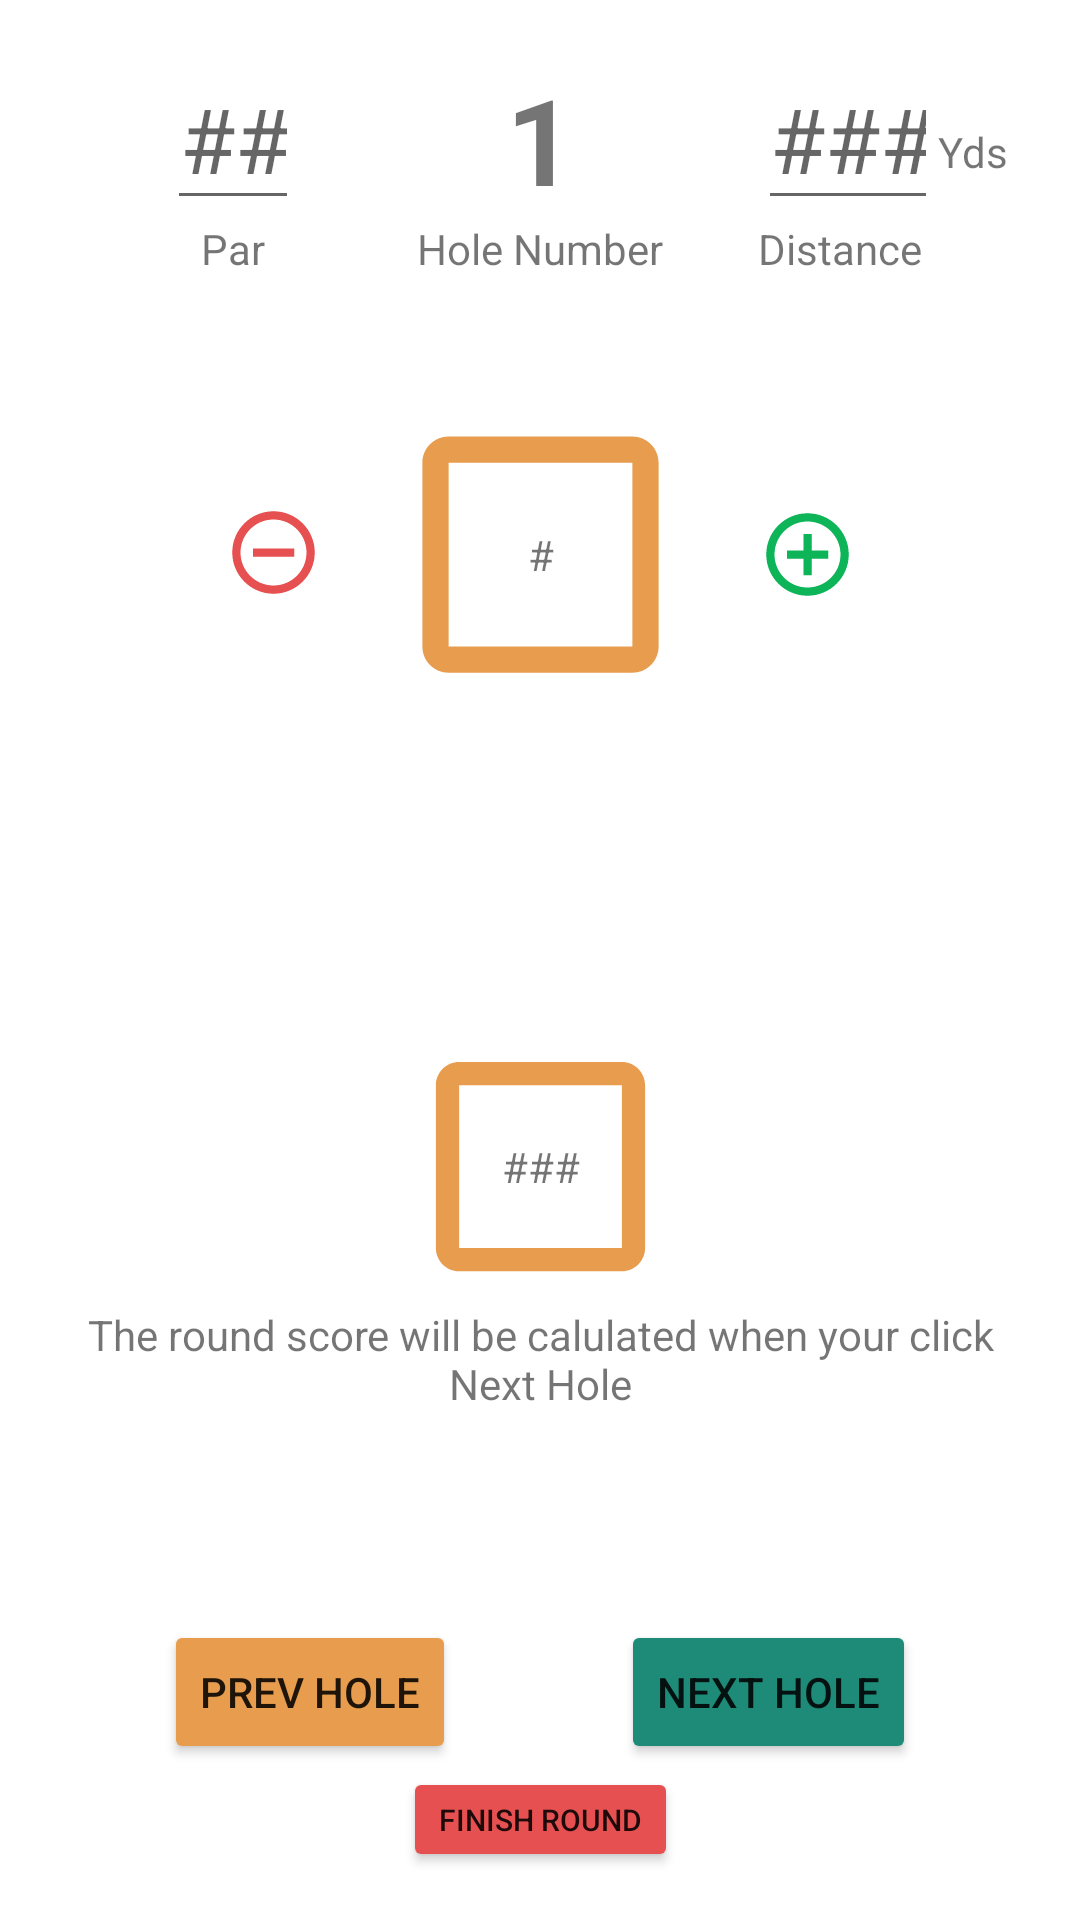

Screen size 1080px x 1920px. Icon name, then its box in pixels as [x1,y1,x2,y2]:
add circle: [766,513,849,596]
check box blank: [422,436,659,673], [436,1062,645,1272]
remove circle: [232,511,315,594]
